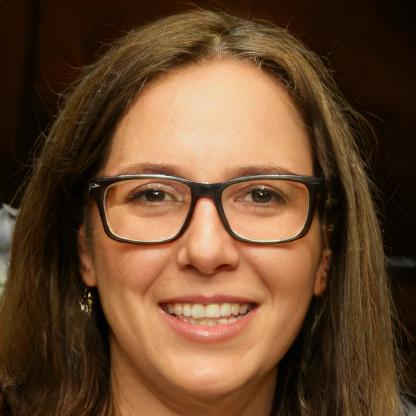glasses: (87, 167, 322, 253)
